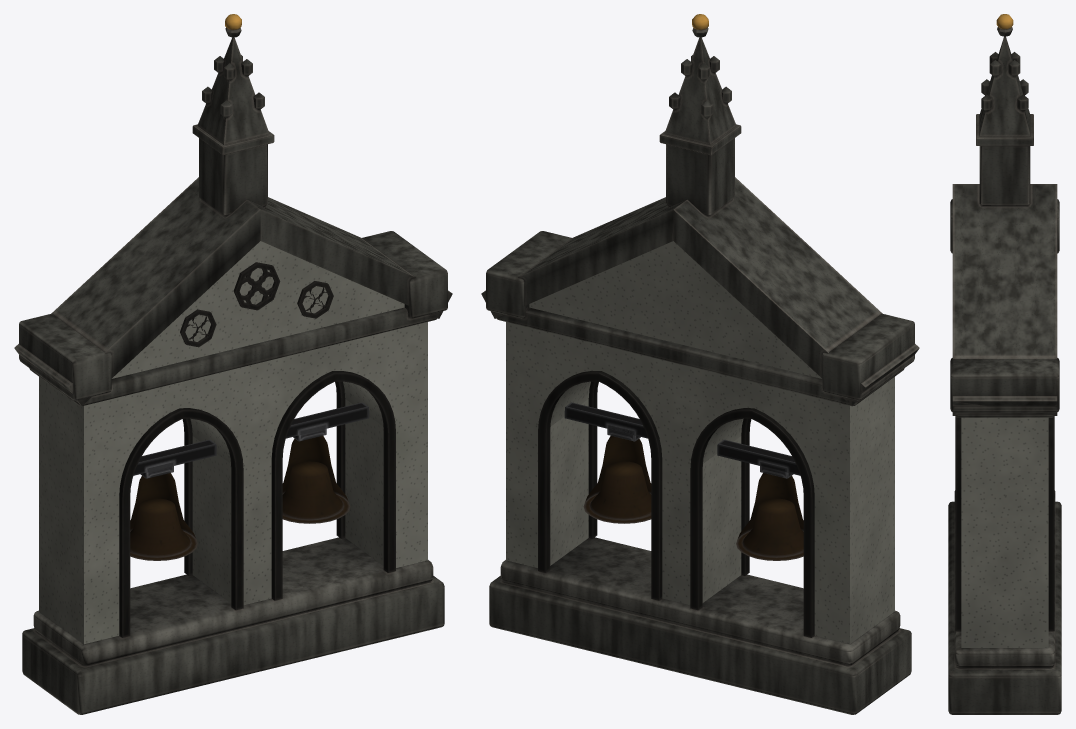
Rendered from BellCote.fbx.
3 renders of one model, left to right at view 1: azimuth 30°, elevation 25°; view 2: azimuth 150°, elevation 25°; view 3: azimuth 270°, elevation 25°, orthographic. The views are drawn at different scales.
Parts seen in each view (by area): view 1: BellCote_Main, BellCote_Stone; view 2: BellCote_Main, BellCote_Stone; view 3: BellCote_Main, BellCote_Stone.
Part boxes in pixels (<box>): BellCote_Main: <box>14,14,452,714</box>; BellCote_Stone: <box>39,241,427,644</box>; BellCote_Main: <box>481,14,919,714</box>; BellCote_Stone: <box>506,241,894,644</box>; BellCote_Main: <box>948,14,1061,714</box>; BellCote_Stone: <box>961,417,1048,647</box>.
Size of the model in its own units: 492 by 778 by 130.
